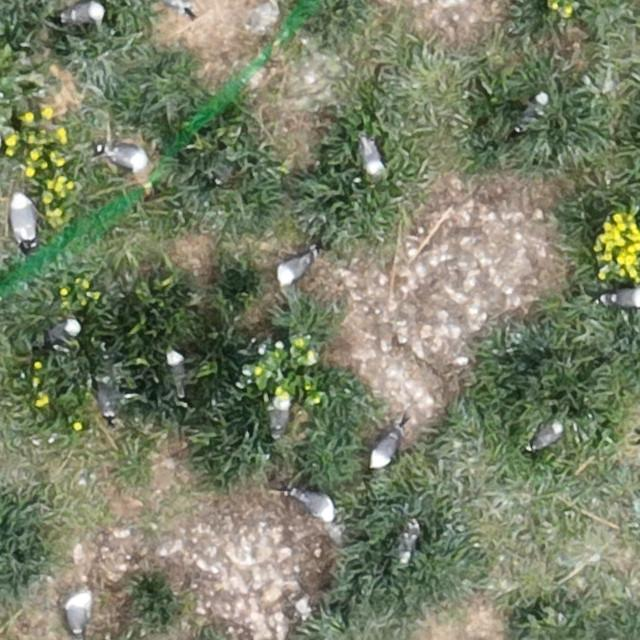umineko: (11, 196, 35, 241), (105, 147, 150, 169), (296, 494, 335, 519), (279, 255, 311, 284), (399, 520, 419, 566), (371, 431, 398, 465), (65, 3, 104, 23), (48, 320, 80, 344), (532, 424, 562, 448), (68, 598, 88, 634), (363, 142, 383, 174), (523, 92, 545, 120), (608, 289, 640, 307), (272, 399, 289, 432), (167, 352, 183, 380), (156, 0, 188, 11)
